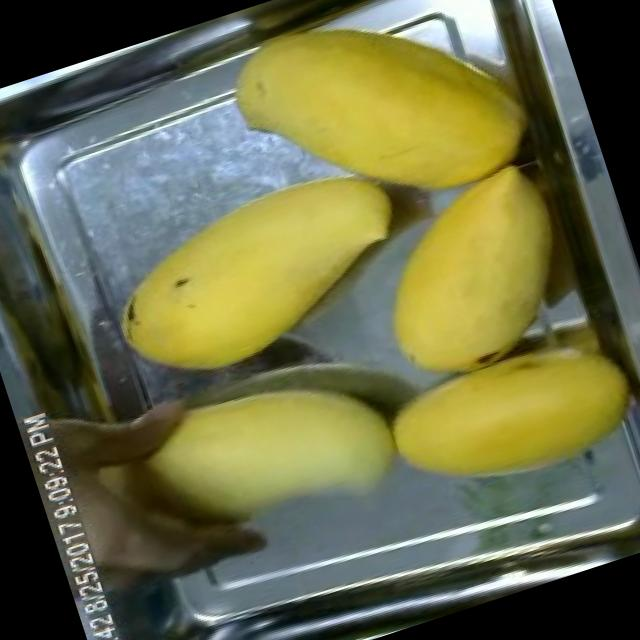fruit: (83, 142, 442, 408), (209, 0, 563, 261), (110, 333, 425, 570), (337, 146, 602, 402), (364, 303, 640, 524)
